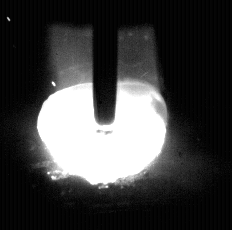arame: (96, 0, 117, 125)
poca: (36, 0, 167, 230)
